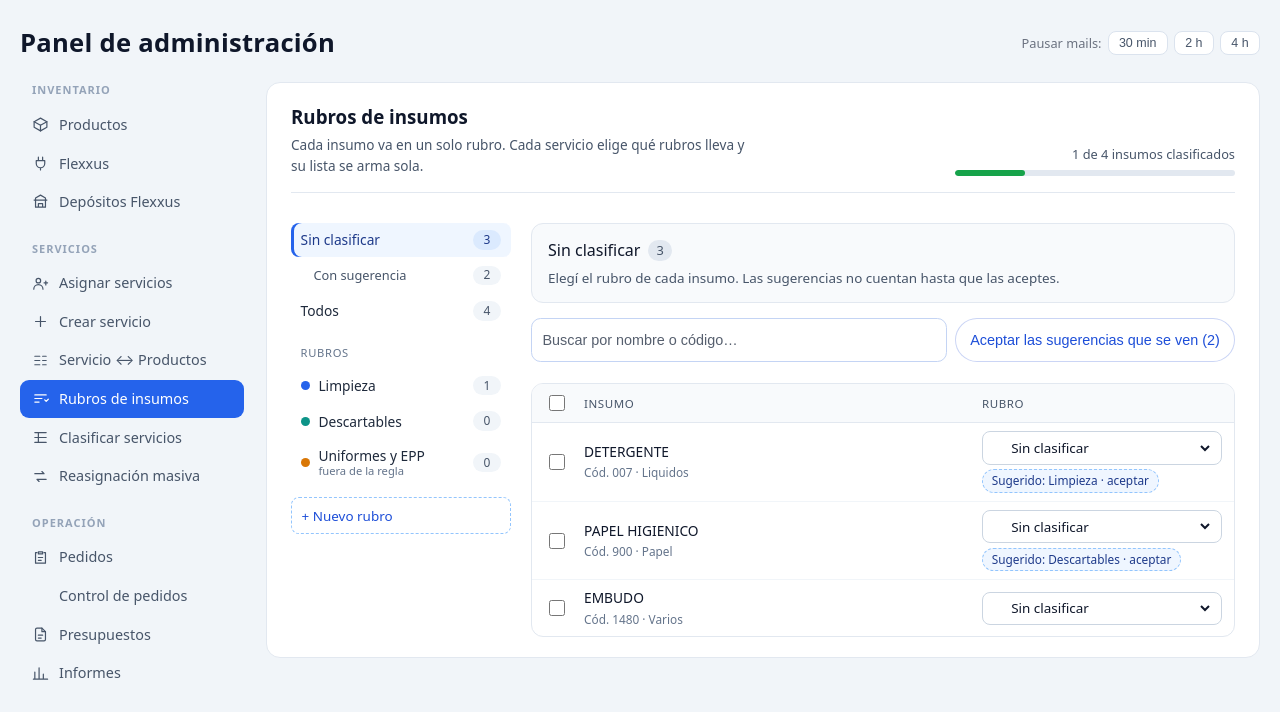
Scenario: Rubros de insumos › descartar vuelve todo a como estaba
The width and height of the screenshot is (1280, 712).
Check: the heading "Rubros de insumos" is shown, box [291,104,468,129]
Check: the dropdown named "Rubro de DETERGENTE" is shown, box [1007,432,1213,464]
Select "Limpieza" in the dropdown named "Rubro de EMBUDO" at point(1110, 608), box [1007,593,1213,624]
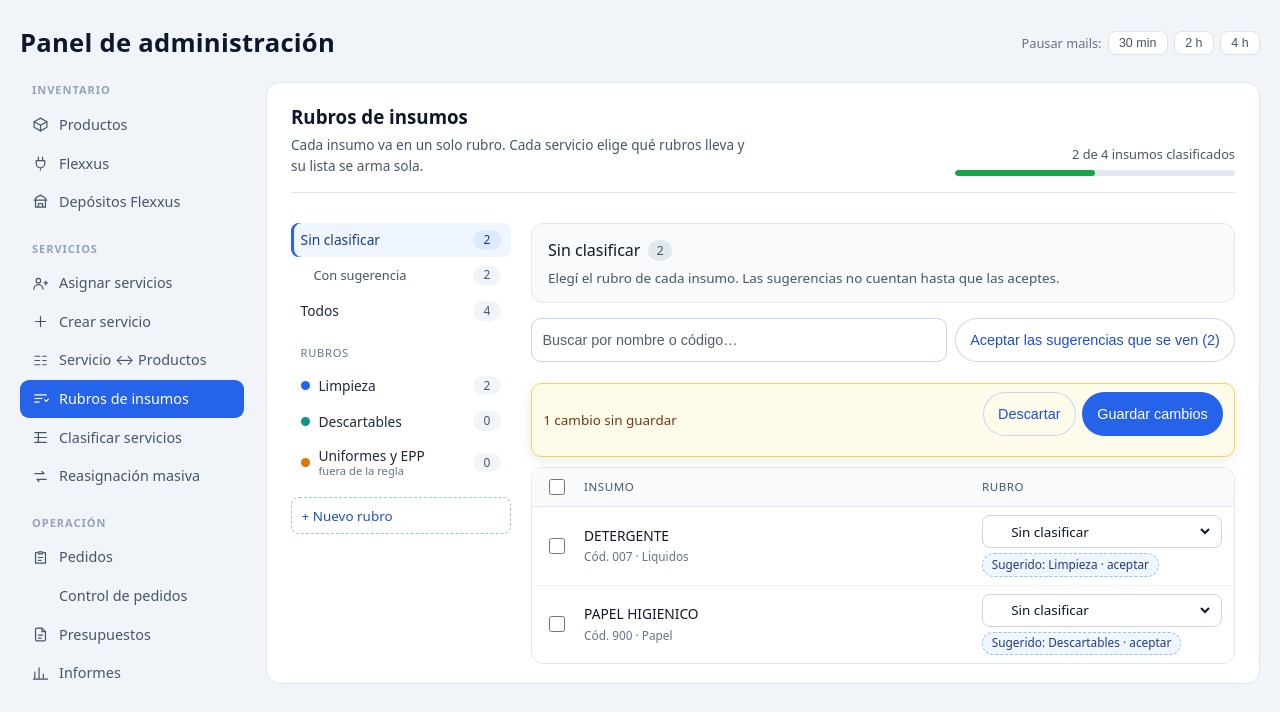
Check: the text "1 cambio sin guardar" is shown, box [543,410,677,430]
Click the button "Descartar" at point(1029, 414), box [983,392,1076,436]
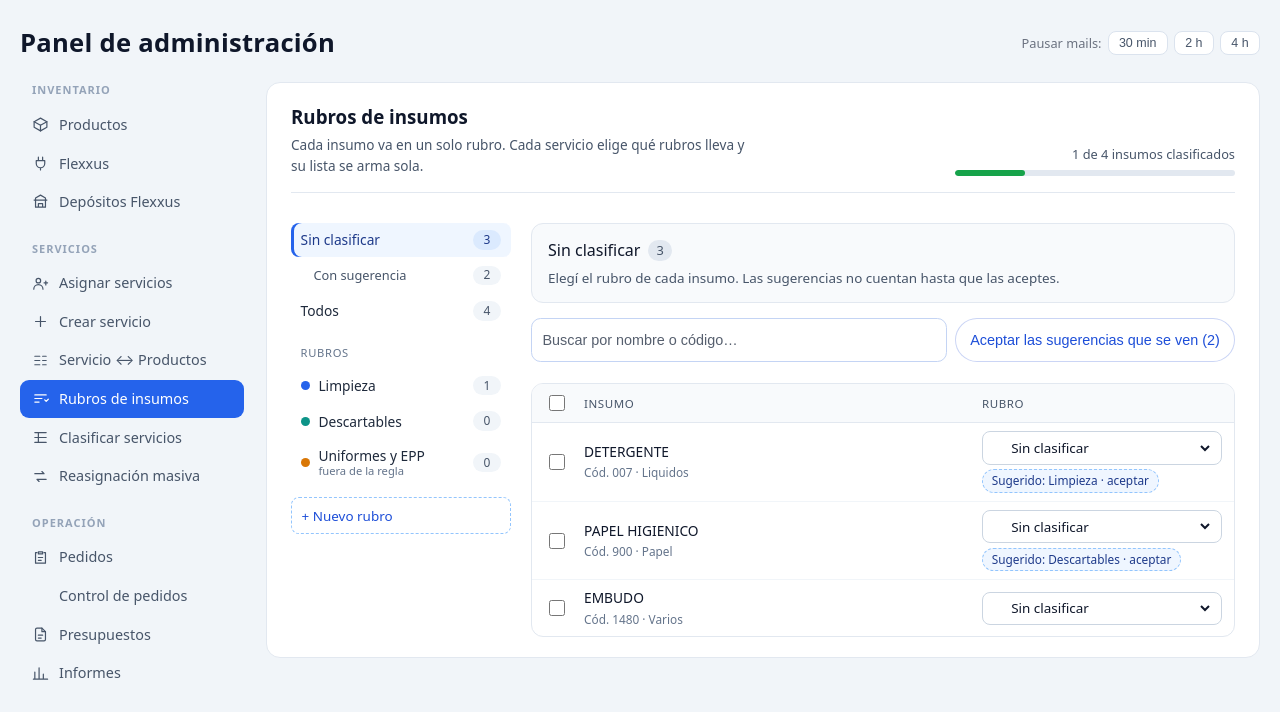
Check: the text "sin guardar" is gone
